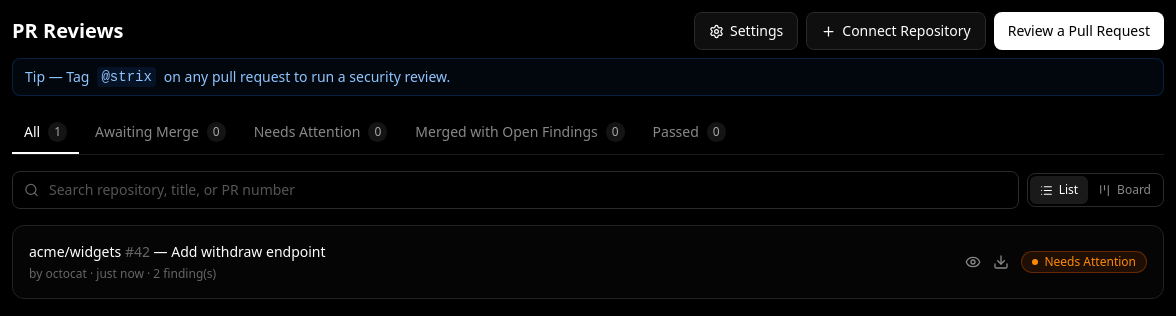
Test case: PRReviewsList › switches to board view, hiding tabs
This screenshot has width=1176, height=316.
Expected: the text "acme/widgets #42 — Add withdraw endpoint" is shown, [29,242,326,262]
Click the button "Board".
click(1125, 190)  # box [1088,176,1161,204]
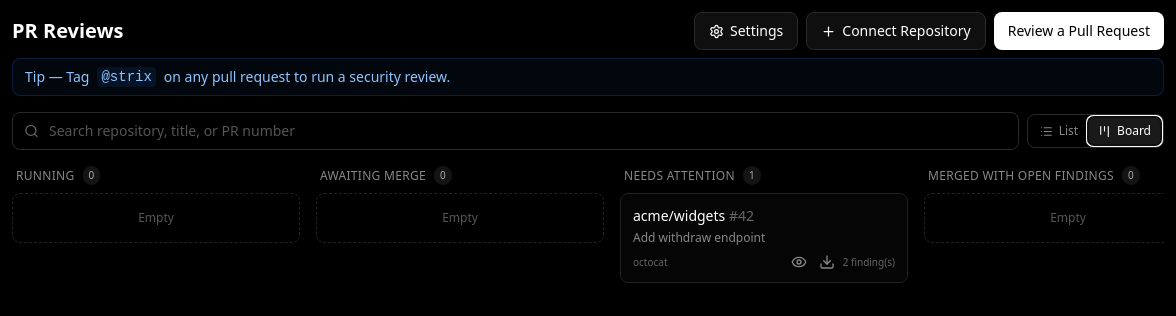
Expected: the button "Passed" is gone
